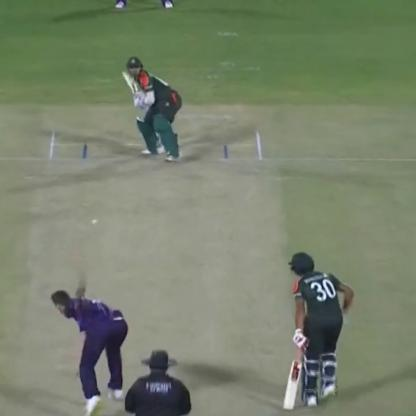ball: (89, 217, 101, 228)
bat: (282, 336, 308, 410), (118, 66, 141, 103)
pitch: (3, 127, 301, 416)
